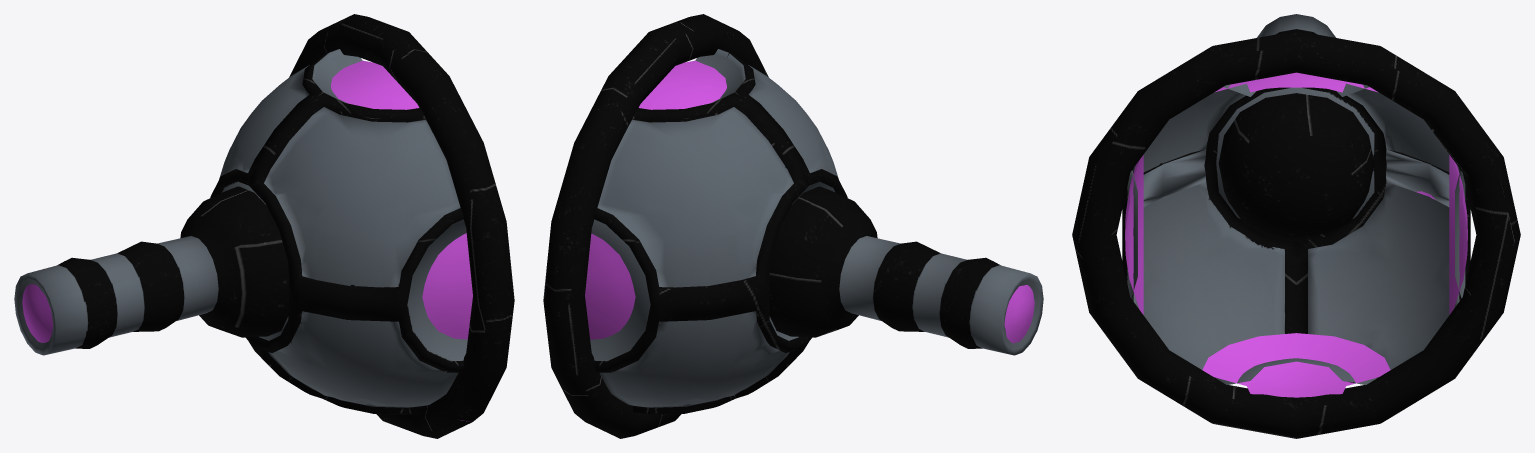
The model's file is Turret.fbx.
The picture shows the model from 3 angles, left to right: view 1: azimuth 30°, elevation 25°; view 2: azimuth 150°, elevation 25°; view 3: azimuth 270°, elevation 25°; orthographic projection. The views are drawn at different scales.
Visible parts, largest first — view 1: Turret, Nozzle; view 2: Turret, Nozzle; view 3: Turret, Nozzle.
Boxes of the visible parts, <box> form: Turret: <box>210,14,514,438</box>; Nozzle: <box>14,186,289,355</box>; Turret: <box>543,14,847,438</box>; Nozzle: <box>769,186,1043,355</box>; Turret: <box>1072,31,1520,438</box>; Nozzle: <box>1218,14,1374,241</box>.
Bounding box in the file's own units: 203 × 205 × 203.
